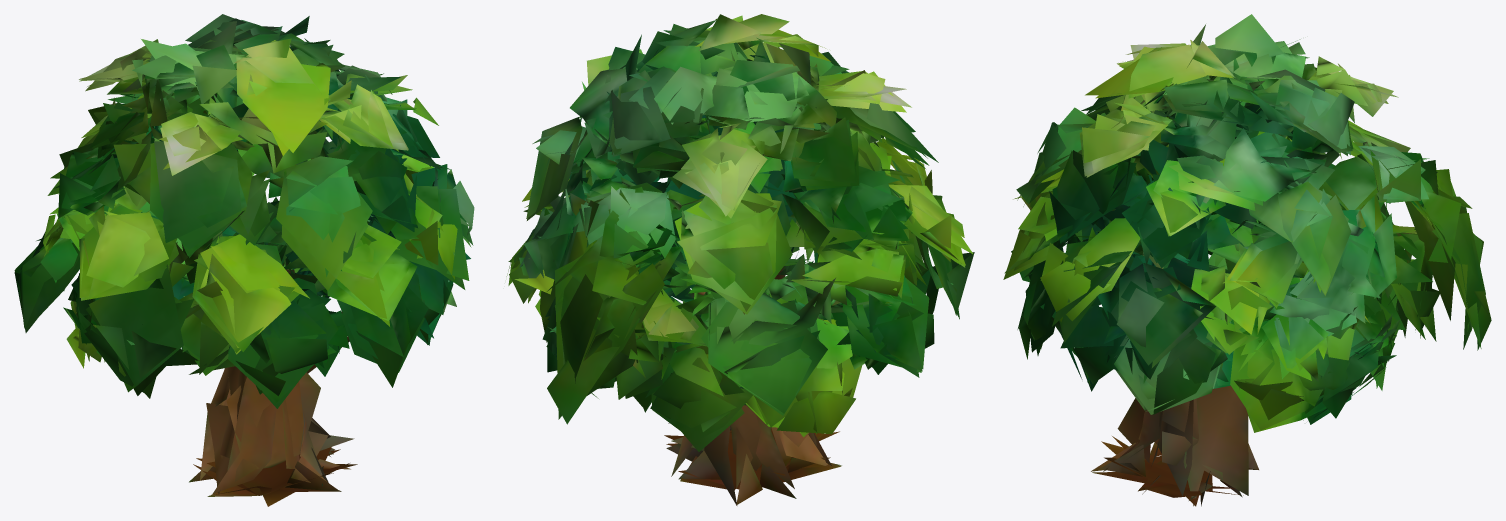
File: jungle-tree.glb
3 views of the same model, side by side, from view 1: azimuth 30°, elevation 25°; view 2: azimuth 150°, elevation 25°; view 3: azimuth 270°, elevation 25° (orthographic). The views are drawn at different scales.
Visible parts, largest first — view 1: Mesh_0; view 2: Mesh_0; view 3: Mesh_0.
Boxes of the visible parts, x1,y1,x2,y2 form: Mesh_0: (14, 14, 474, 506); Mesh_0: (506, 14, 974, 505); Mesh_0: (1003, 14, 1491, 506).
Bounding box in the file's own units: 0.9318 × 1 × 0.9945.
1 material, 1 textured.
